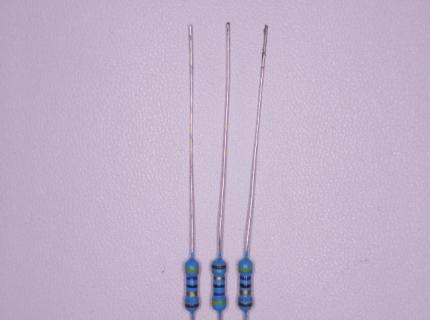Black band: (240, 283, 251, 289), (186, 284, 198, 288), (214, 284, 226, 288)
Brown band: (185, 303, 199, 309), (237, 302, 253, 307), (212, 264, 227, 269)
Gold band: (186, 291, 198, 297), (213, 276, 225, 281), (240, 290, 251, 295)
Violet band: (240, 275, 251, 280), (213, 292, 225, 296), (186, 276, 198, 280)
Yellow band: (212, 300, 226, 306), (238, 267, 253, 272), (184, 267, 199, 272)
